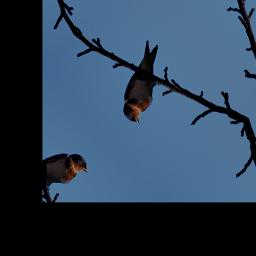Swallow: (99, 37, 187, 128)
